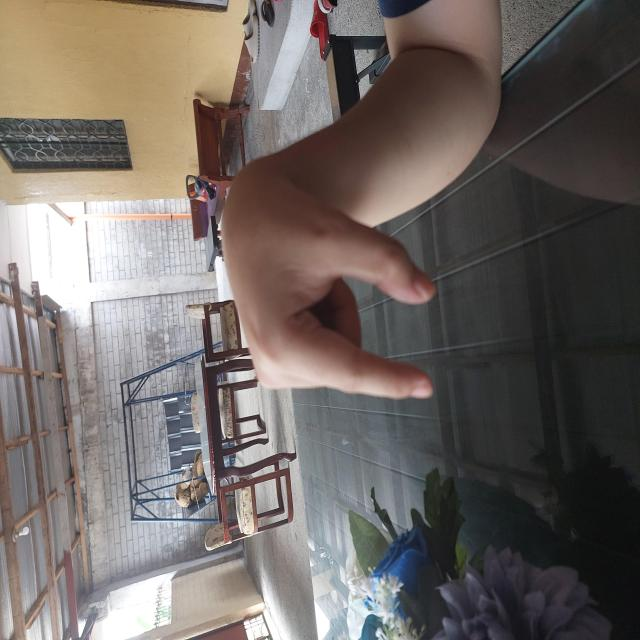Q: (238, 218, 464, 438)
